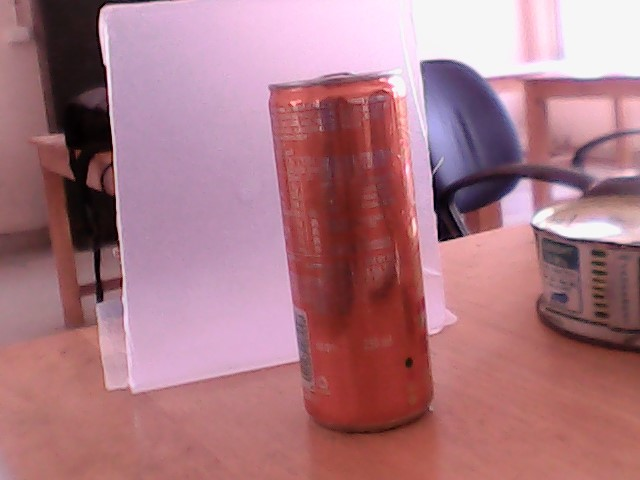Metal: (266, 70, 443, 480)
